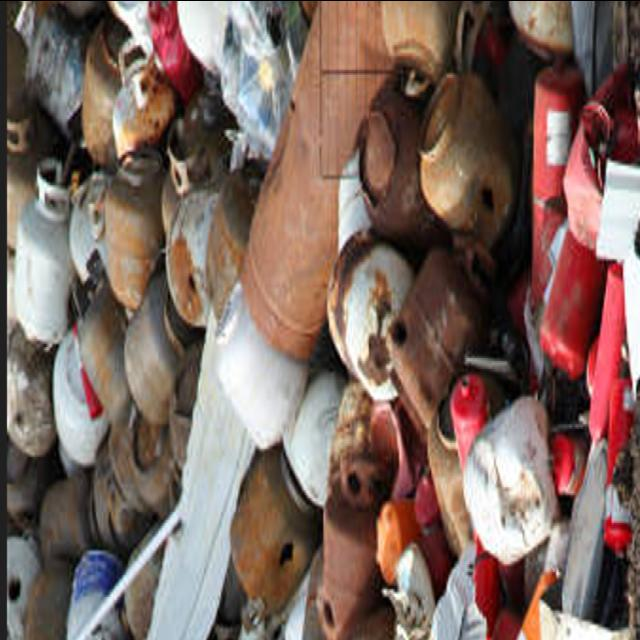cylinder: (320, 454, 395, 639), (105, 147, 166, 311), (17, 157, 69, 342)
